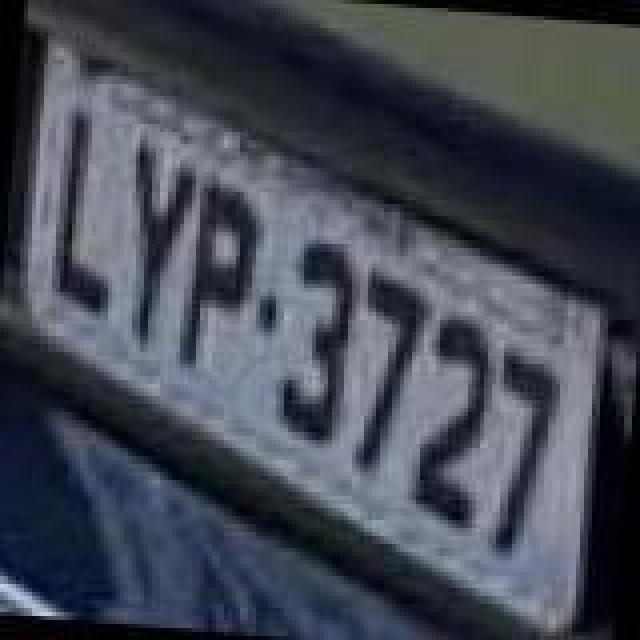2: (410, 312, 502, 536)
3: (274, 238, 366, 450)
7: (348, 272, 436, 480), (478, 348, 562, 564)
L: (46, 110, 130, 322)
P: (174, 178, 266, 374)
Y: (114, 142, 206, 354)
